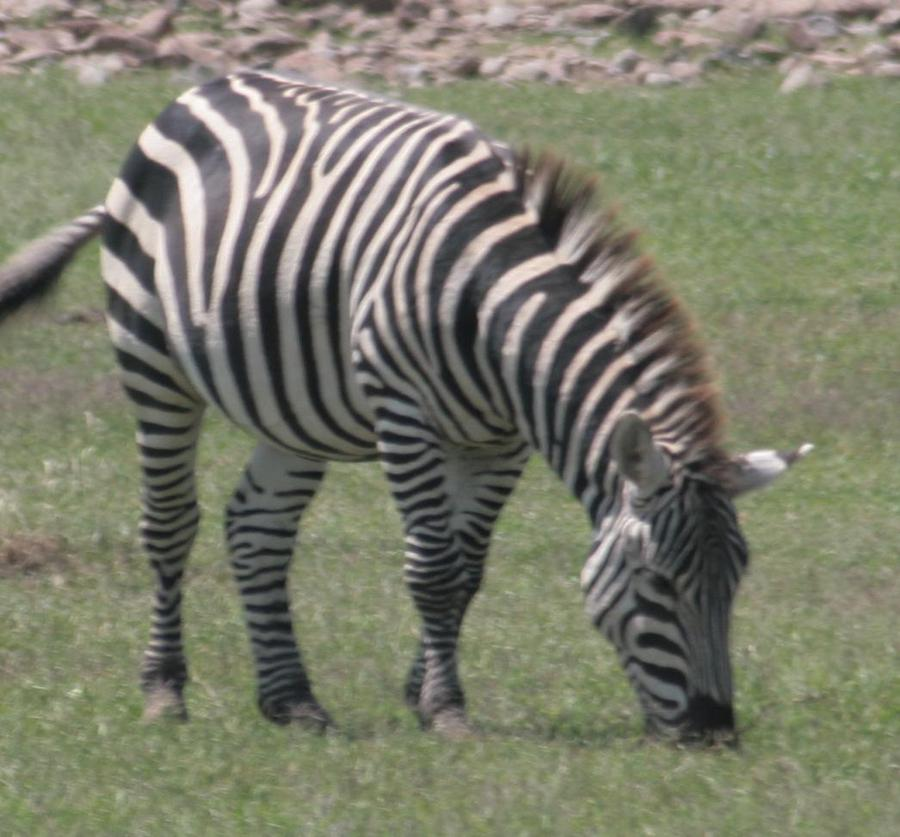zebra_plains: (27, 57, 562, 474)
